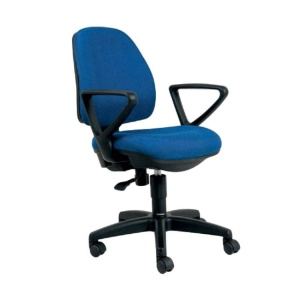chair: (71, 26, 240, 274)
